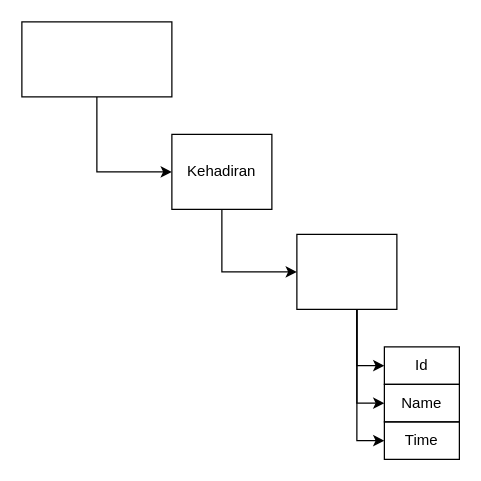
Image size: 481x481. Some labels were removed from this diagram. Here are the shapes that lost their labels. From the top down, the centre of each, then its label:
At pixel 96 59: "Realtime database".
At pixel 346 271: "Username".
